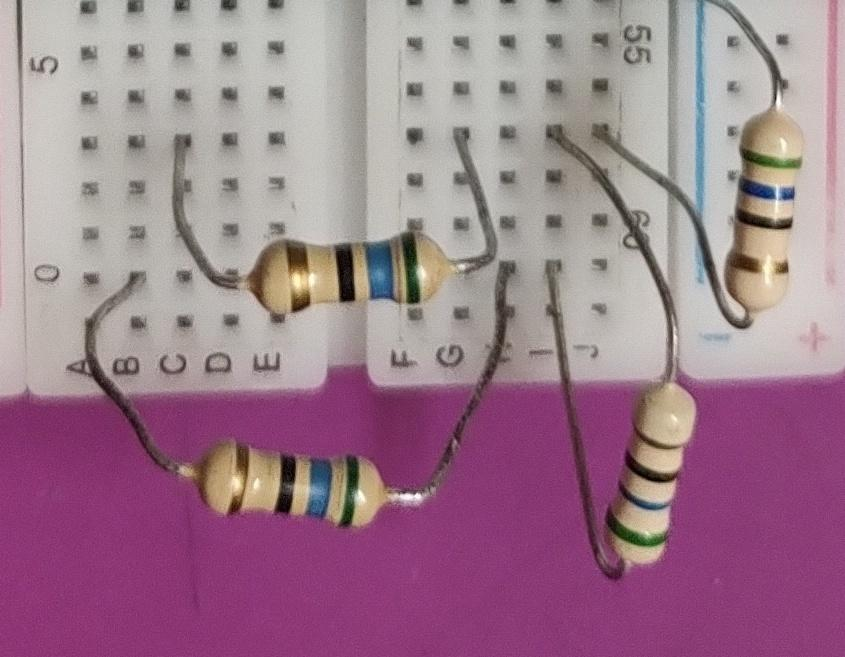resistor: (599, 365, 704, 583), (188, 420, 385, 536), (235, 223, 471, 319), (723, 87, 809, 324)
